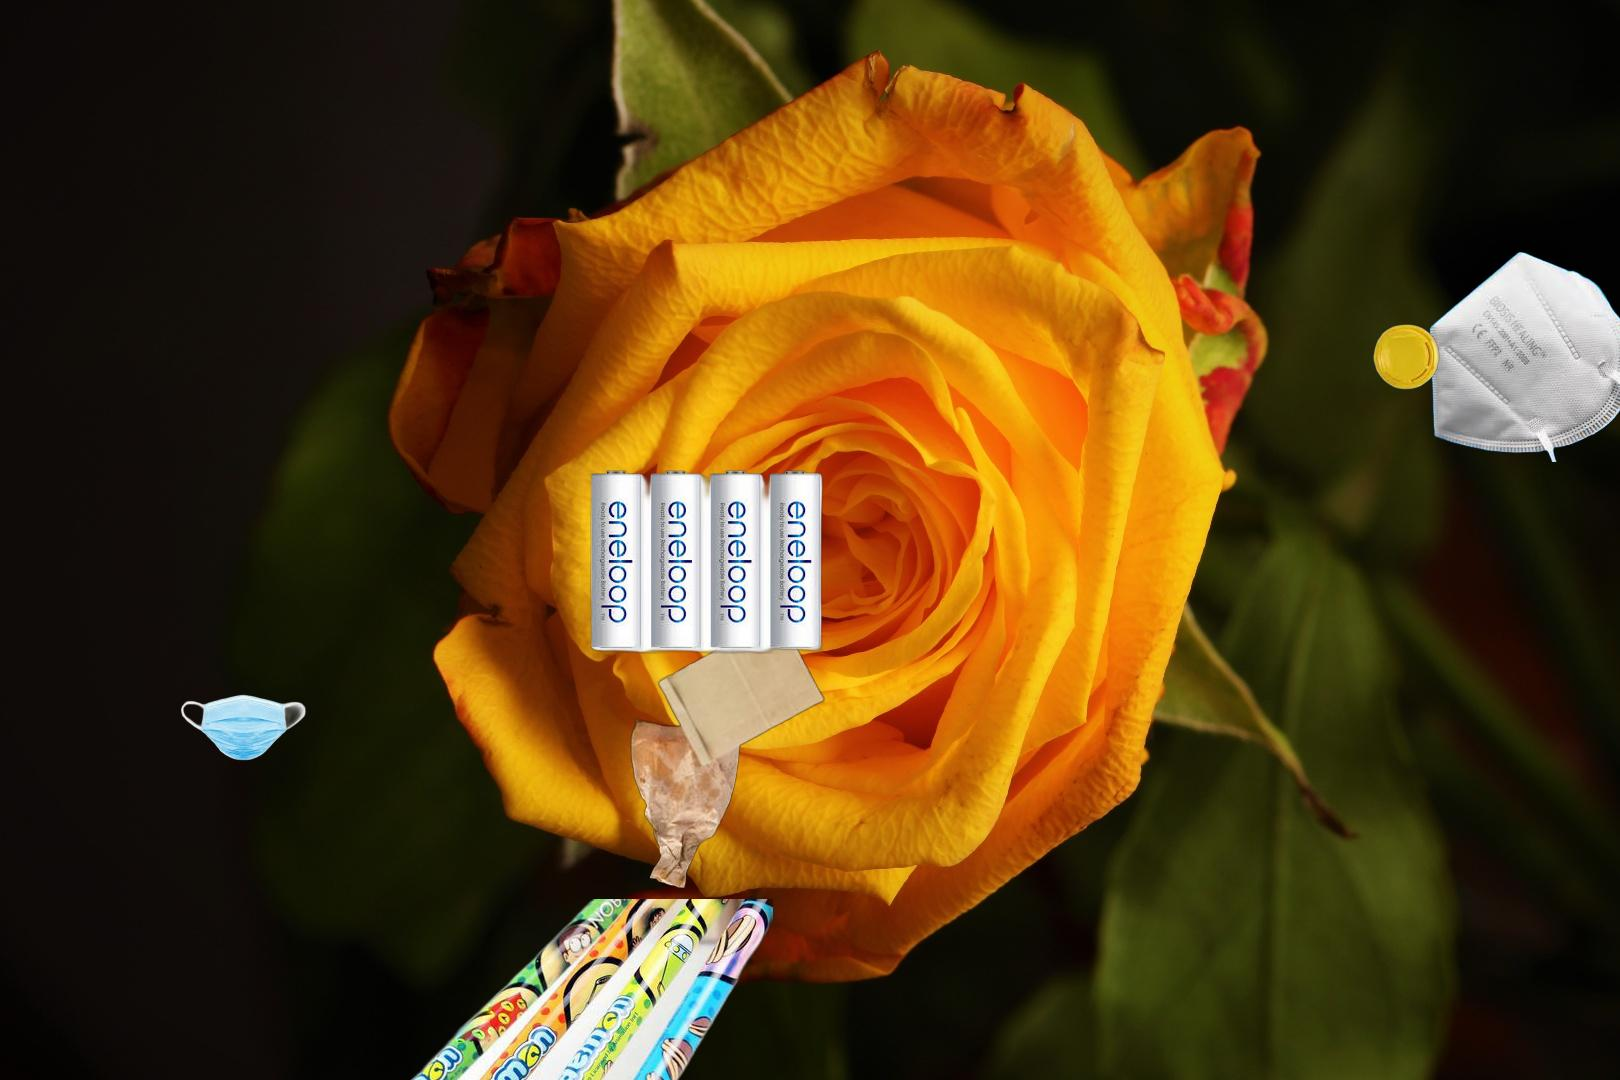battery: (588, 466, 827, 655)
paper-bag: (628, 610, 826, 891)
penholder: (174, 899, 773, 1080)
trash: (1426, 250, 1620, 462), (178, 692, 309, 763), (1370, 321, 1442, 392)
